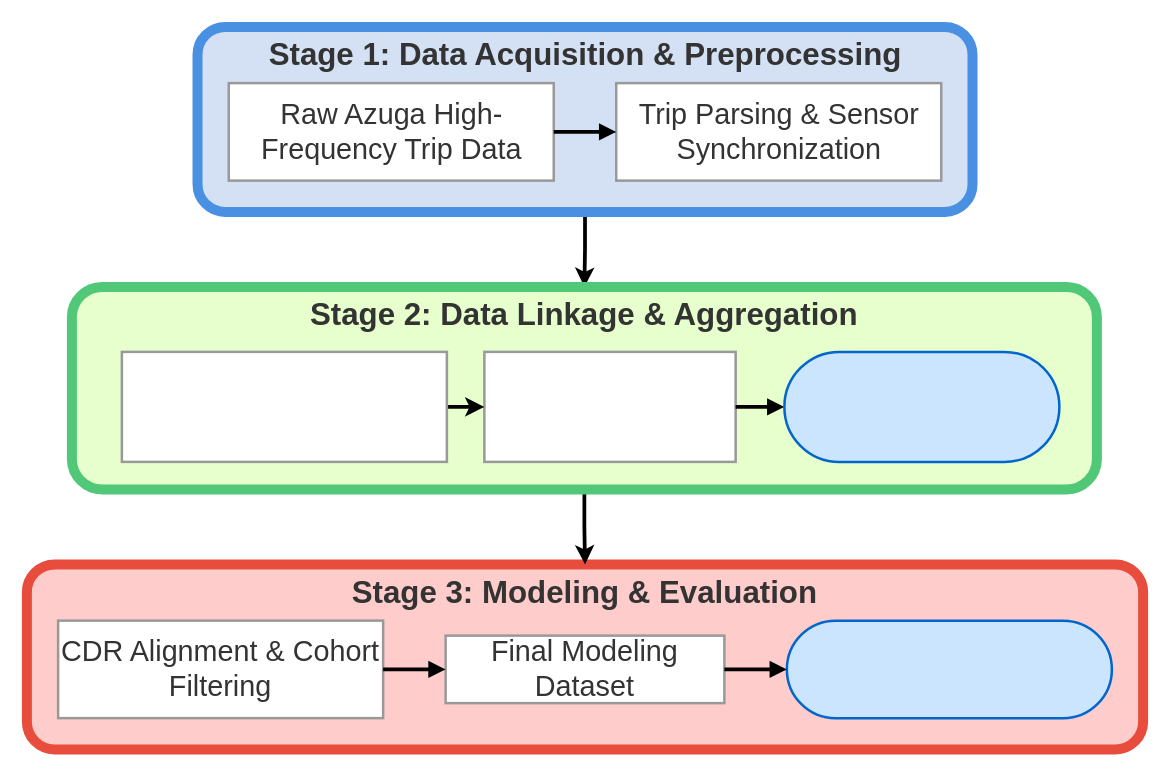
This 1169x775 diagram has some shape labels left out. Here are the shapes that lost their labels. From the top down, the centre of each, then its label:
At (x=284, y=406): "Linkage with Study Metrics & Demographics".
At (x=609, y=406): "Weekly Aggregation".
At (x=921, y=406): "Participant-Week Observations".
At (x=948, y=669): "Participant-Level Evaluation Outputs".
